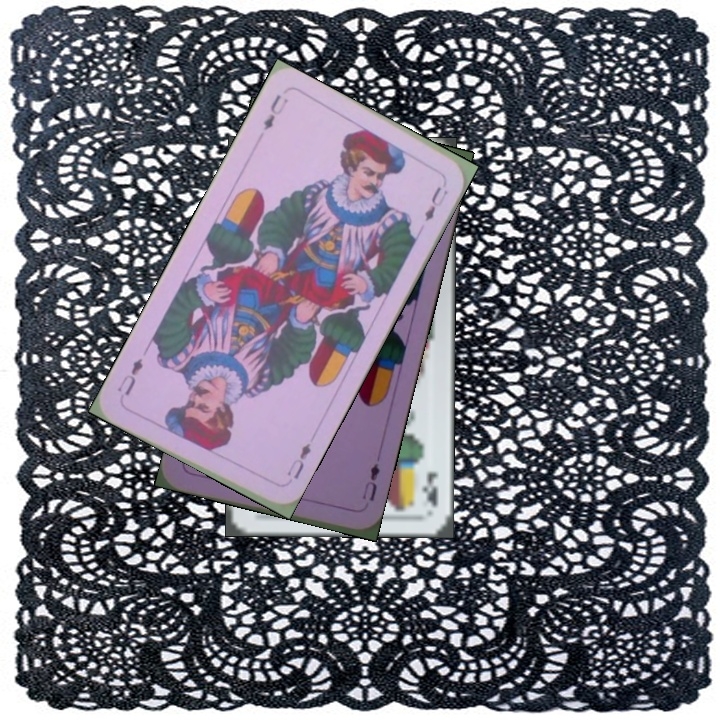EK: (418, 468, 441, 508)
EU: (259, 90, 291, 134), (283, 438, 314, 482), (357, 459, 383, 504)
